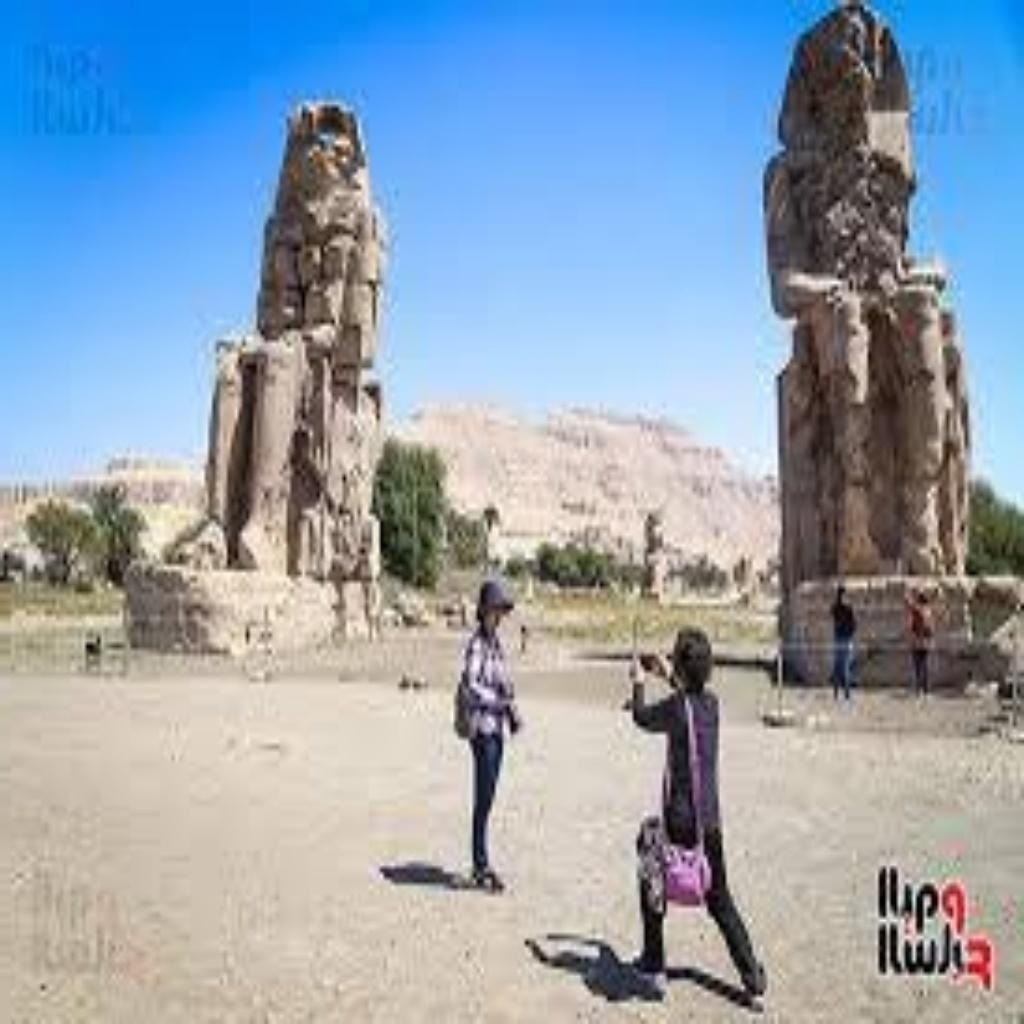Colossoi of Memnon: (756, 0, 994, 688), (134, 84, 406, 649)
